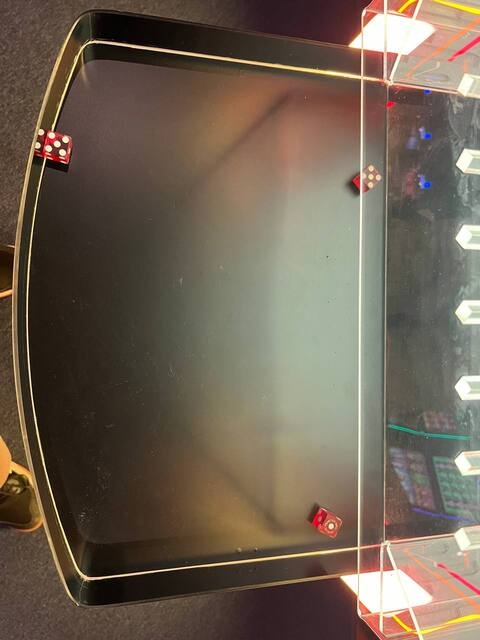five: (39, 128, 72, 161), (357, 163, 384, 192)
one: (316, 512, 344, 541)
